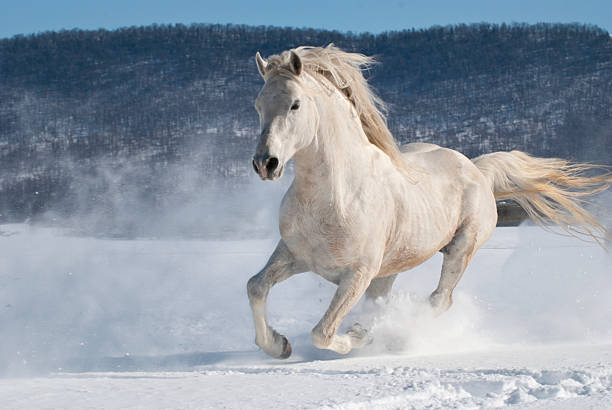Horse: (146, 30, 610, 372)
